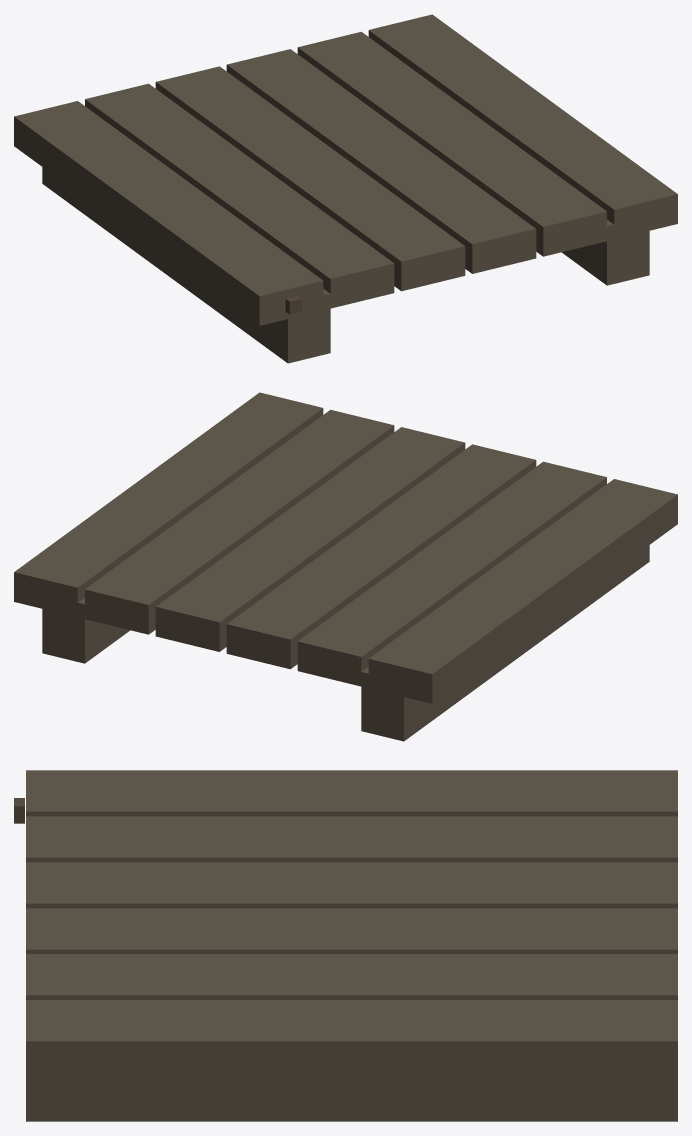
File: pallet-1.glb
3 renders of one model, top to bottom at view 1: azimuth 30°, elevation 25°; view 2: azimuth 150°, elevation 25°; view 3: azimuth 270°, elevation 25°, orthographic. The views are drawn at different scales.
Parts seen in each view (by area): view 1: pallet/0/KR-230-1; view 2: pallet/0/KR-230-1; view 3: pallet/0/KR-230-1.
Boxes of the visible parts, bbox=[...] form: pallet/0/KR-230-1: bbox=[14, 14, 677, 363]; pallet/0/KR-230-1: bbox=[14, 392, 677, 741]; pallet/0/KR-230-1: bbox=[14, 770, 677, 1121].
Size of the model in its own units: 1.18 by 0.2 by 1.22.
